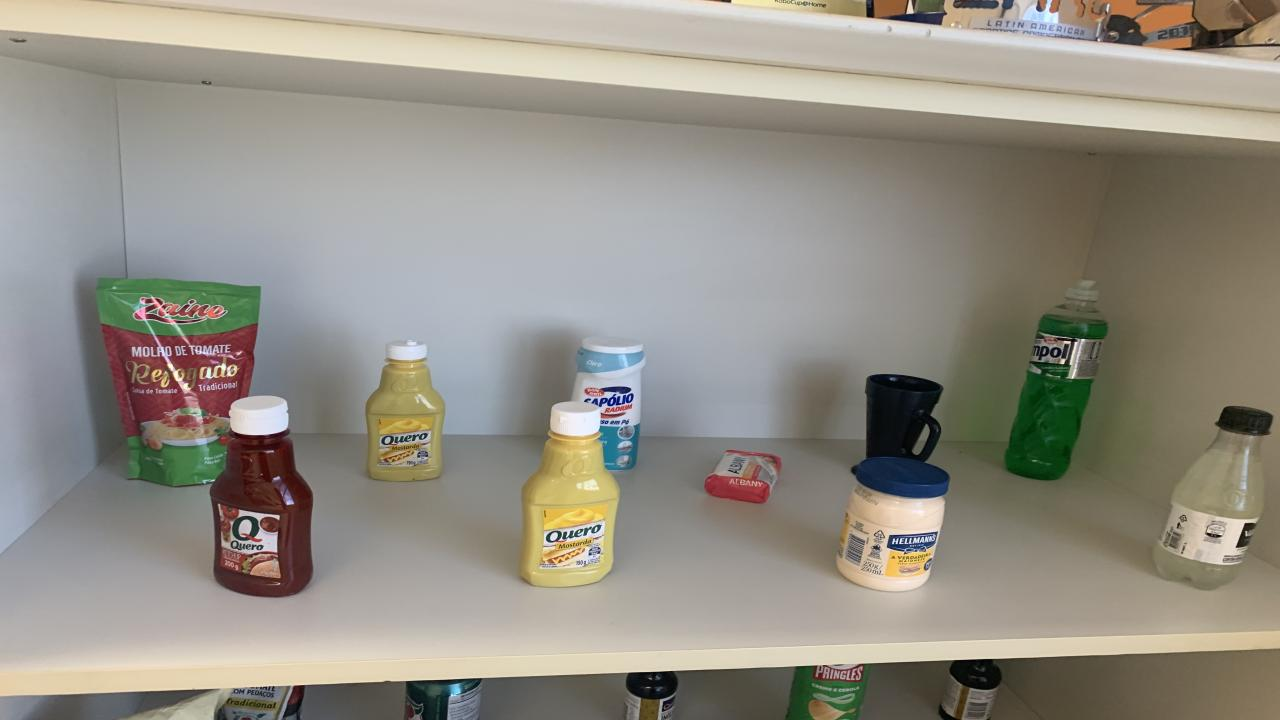Cleaner-Cleanup_Items: (572, 336, 645, 471)
Detergent-Cleanup_Items: (1005, 279, 1108, 480)
English_Sauce-Pantry_Items: (940, 658, 1002, 720), (625, 671, 678, 720)
Flakes-Snacks: (120, 688, 232, 720)
Guarana_Can-Drinks: (405, 679, 482, 720)
Ketchup-Pantry_Items: (210, 396, 312, 596), (415, 349, 418, 351)
Mayonnaise-Pantry_Items: (838, 458, 950, 591)
Mustard-Pantry_Items: (520, 401, 620, 587), (365, 339, 445, 482)
Pringles-Snacks: (785, 664, 870, 720)
Soap-Cleanup_Items: (705, 450, 780, 502)
Soda-Drinks: (1152, 407, 1272, 589)
Tomato_Sauce-Pantry_Items: (98, 278, 260, 486), (220, 686, 305, 720)
